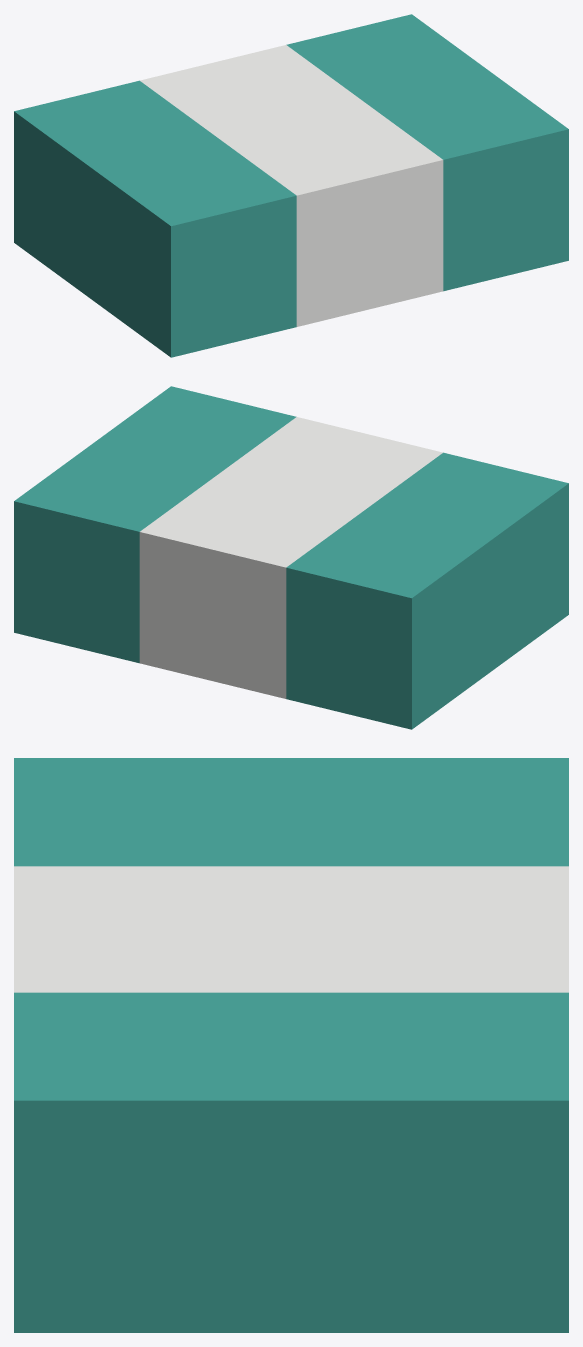
The model's file is sabonete_caixa.dae.
3 renders of one model, top to bottom at view 1: azimuth 30°, elevation 25°; view 2: azimuth 150°, elevation 25°; view 3: azimuth 270°, elevation 25°, orthographic. The views are drawn at different scales.
Visible parts, largest first — view 1: Sabonete - caixa (×2); view 2: Sabonete - caixa (×2); view 3: Sabonete - caixa (×2).
Part boxes in pixels (x1=…): Sabonete - caixa (×2): x1=14, y1=14, x2=568, y2=357; Sabonete - caixa (×2): x1=14, y1=386, x2=568, y2=729; Sabonete - caixa (×2): x1=14, y1=758, x2=568, y2=1332.
Size of the model in its own units: 95 by 65 by 30.
